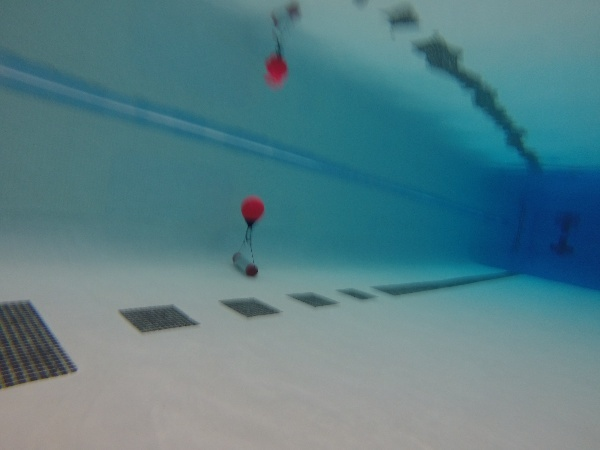buoy_red: (238, 194, 265, 229)
